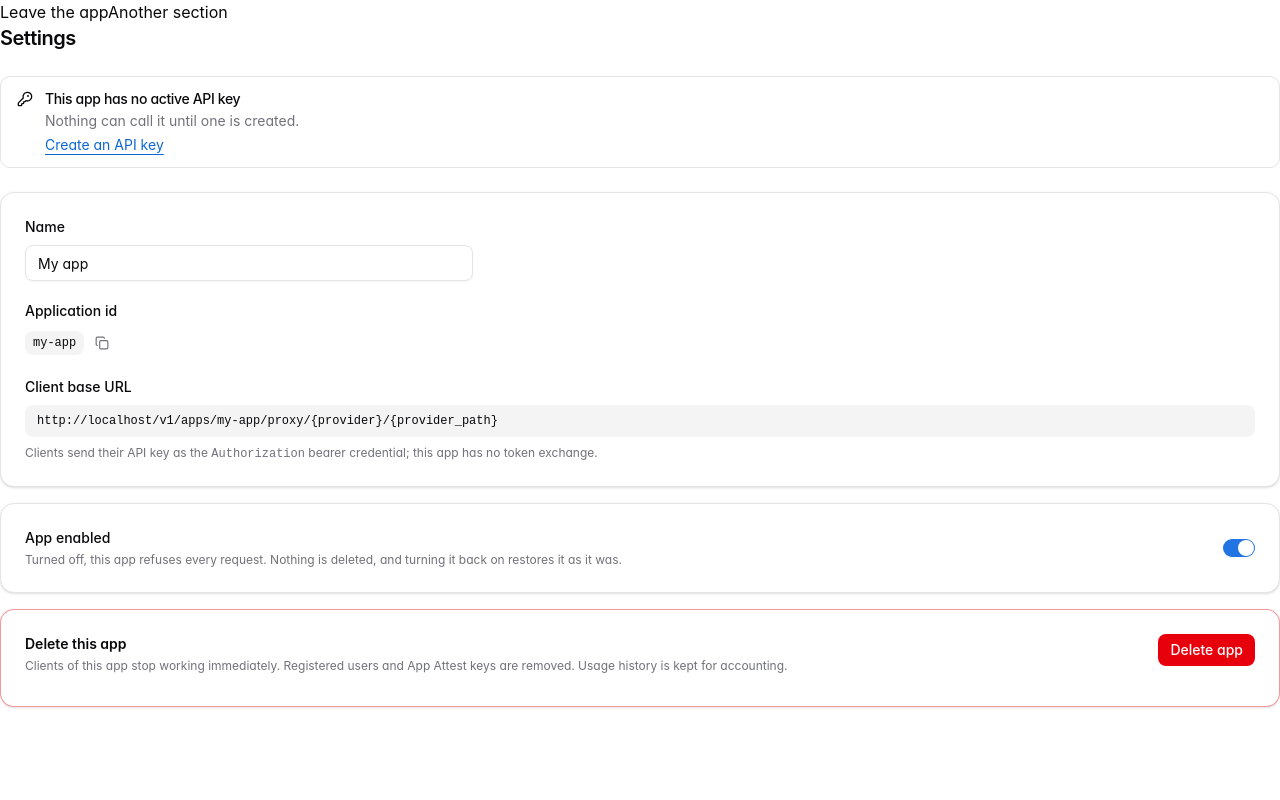
it: leaving with unsaved changes › discards the draft and goes when told to
What coordinates should you click on to do the following:
click the switch named "app enabled"
I would click on:
 (1239, 548)
Its box is [1223,539,1255,557].
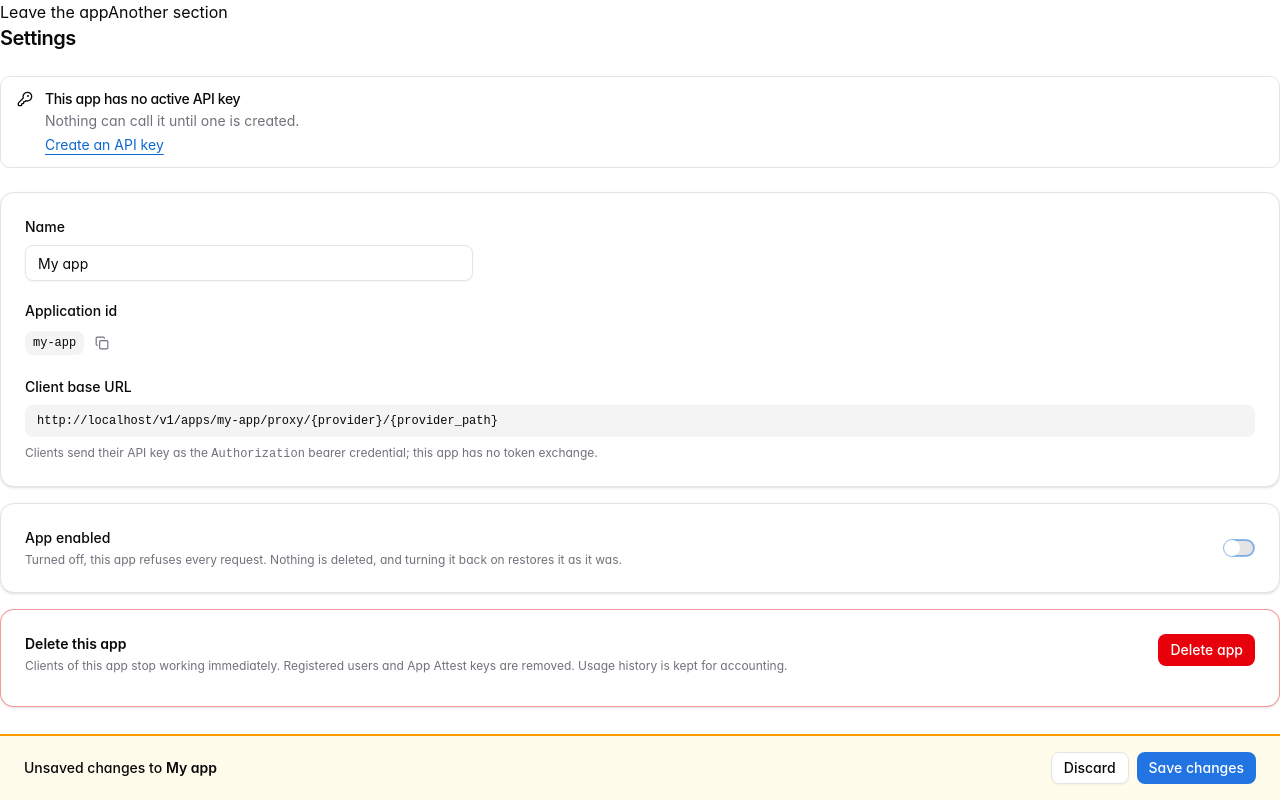
Expected: the text "Unsaved changes to My app" is shown, [24,758,217,778]
What coordinates should you click on to do the following:
click the link "Leave the app"
I would click on:
 (54, 12)
Its box is [0,2,108,22].
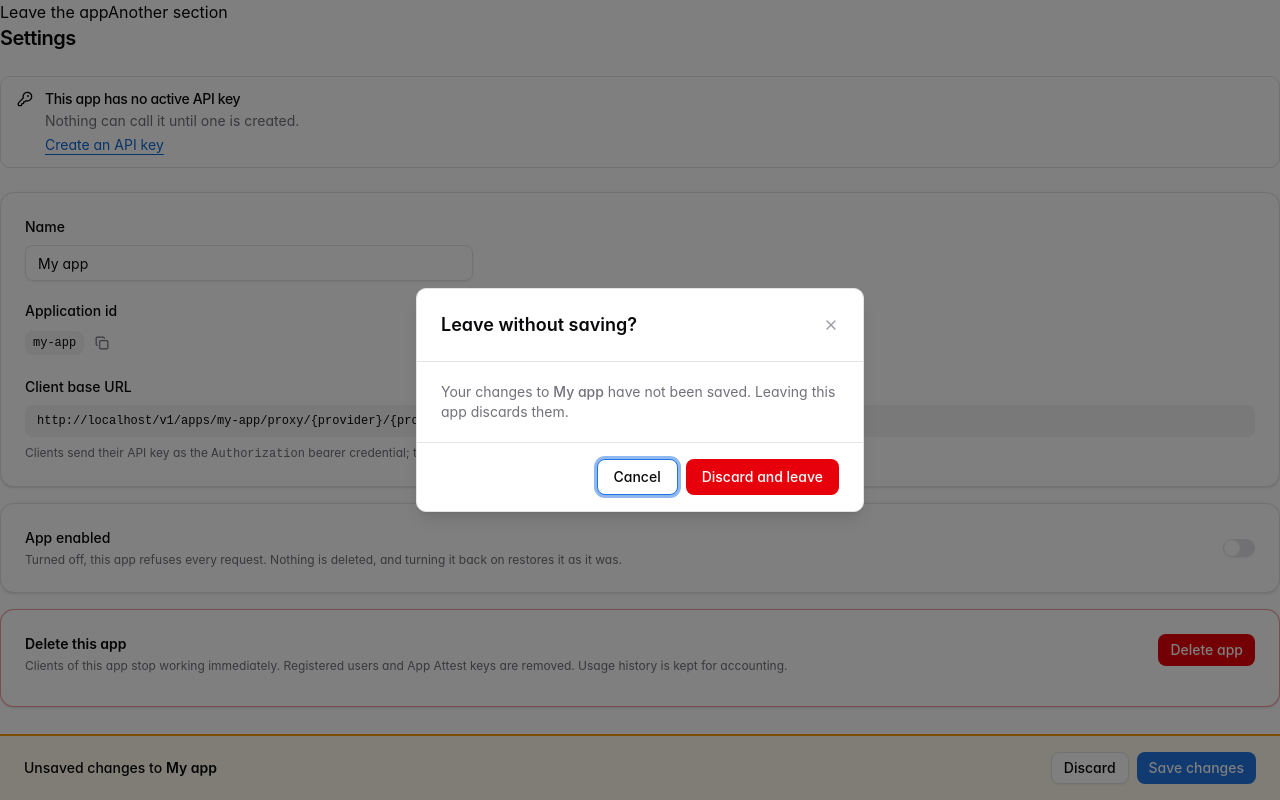
What coordinates should you click on to do the following:
click the button "Discard and leave"
I would click on:
 (762, 477)
Its box is [686,459,839,495].
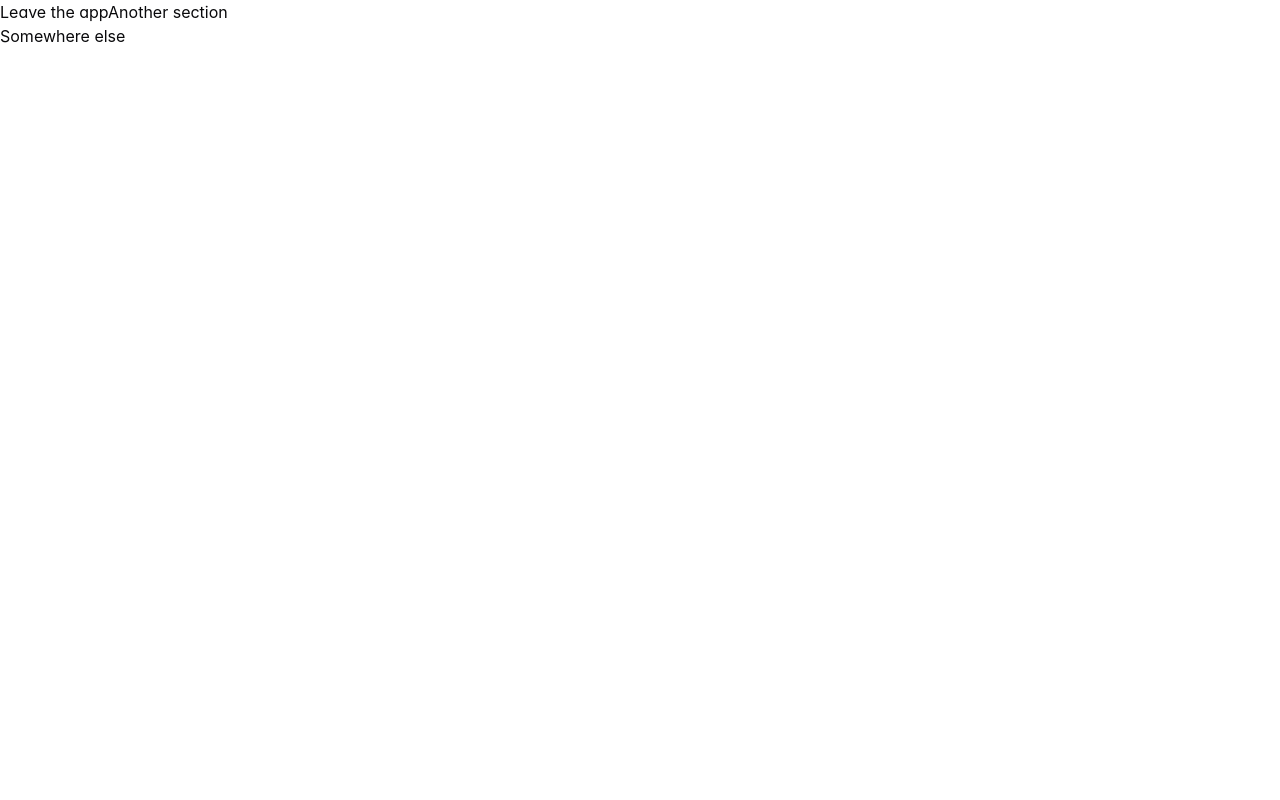
Expected: the heading "Somewhere else" is shown, [0,26,125,46]
